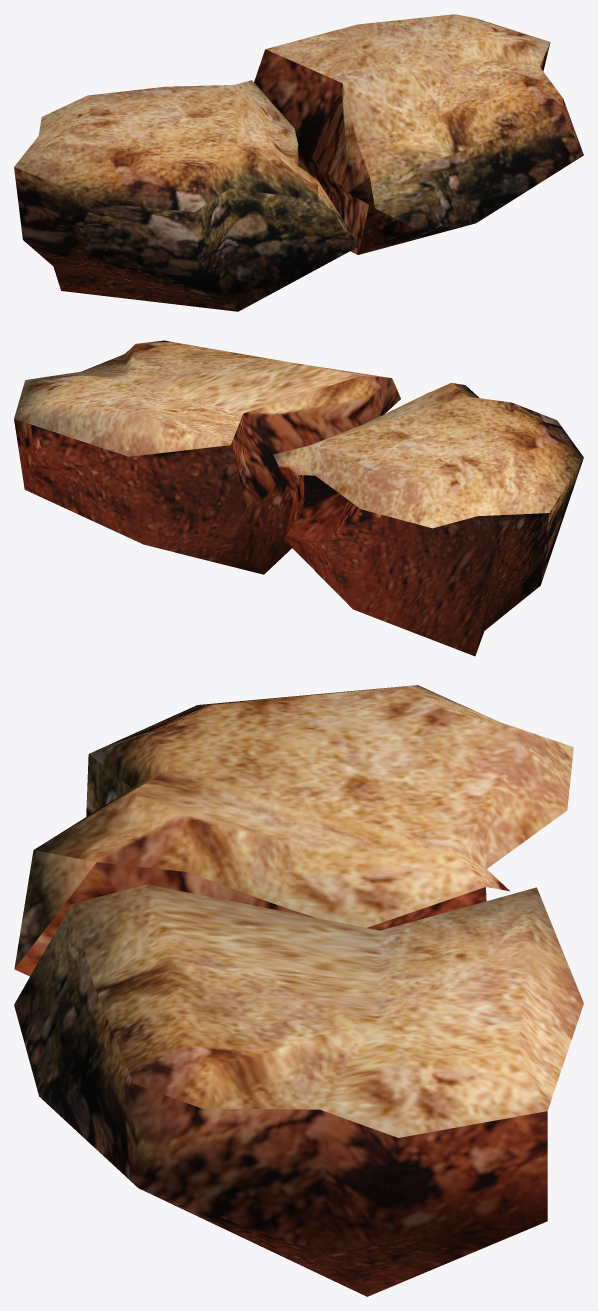
The model's file is platform01.FBX.
3 views of the same model, one above another, from view 1: azimuth 30°, elevation 25°; view 2: azimuth 150°, elevation 25°; view 3: azimuth 270°, elevation 25° (orthographic). The views are drawn at different scales.
Parts seen in each view (by area): view 1: platform01_L, platform01_R; view 2: platform01_R, platform01_L; view 3: platform01_R, platform01_L.
Part boxes in pixels (x1,y1,x2,y2): platform01_L: (14,80,359,311); platform01_R: (254,14,583,254); platform01_R: (14,340,400,574); platform01_L: (273,383,583,656); platform01_R: (14,884,583,1296); platform01_L: (14,685,573,976).
Size of the model in its own units: 3.16 by 1.01 by 1.68.
